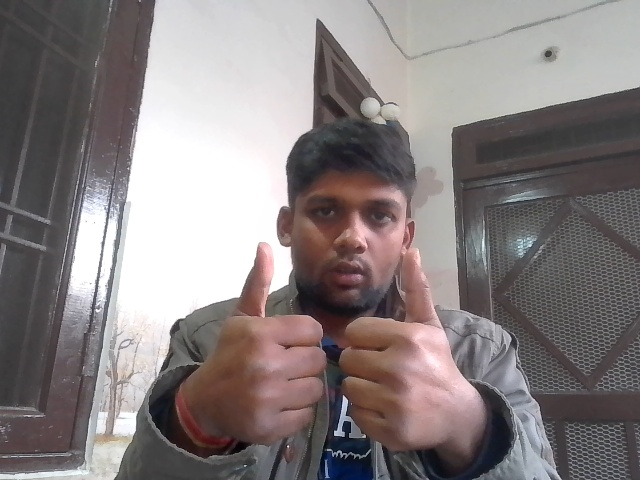Excellent: (202, 238, 460, 447)
